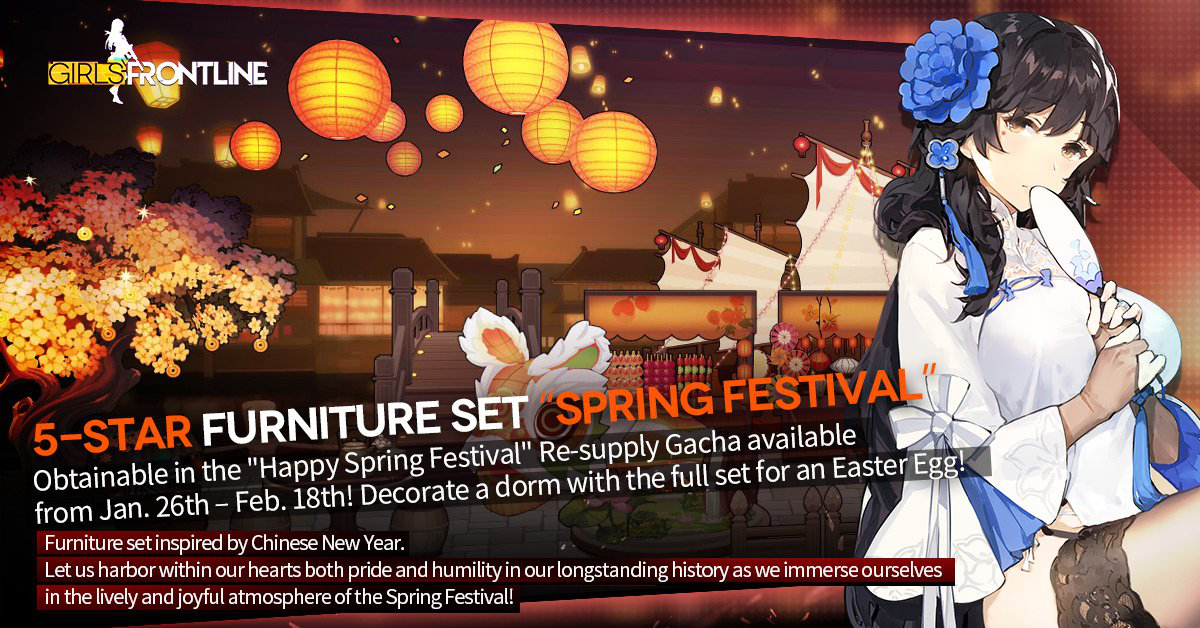latin: (27, 360, 967, 530), (42, 559, 944, 583), (43, 533, 405, 556)
